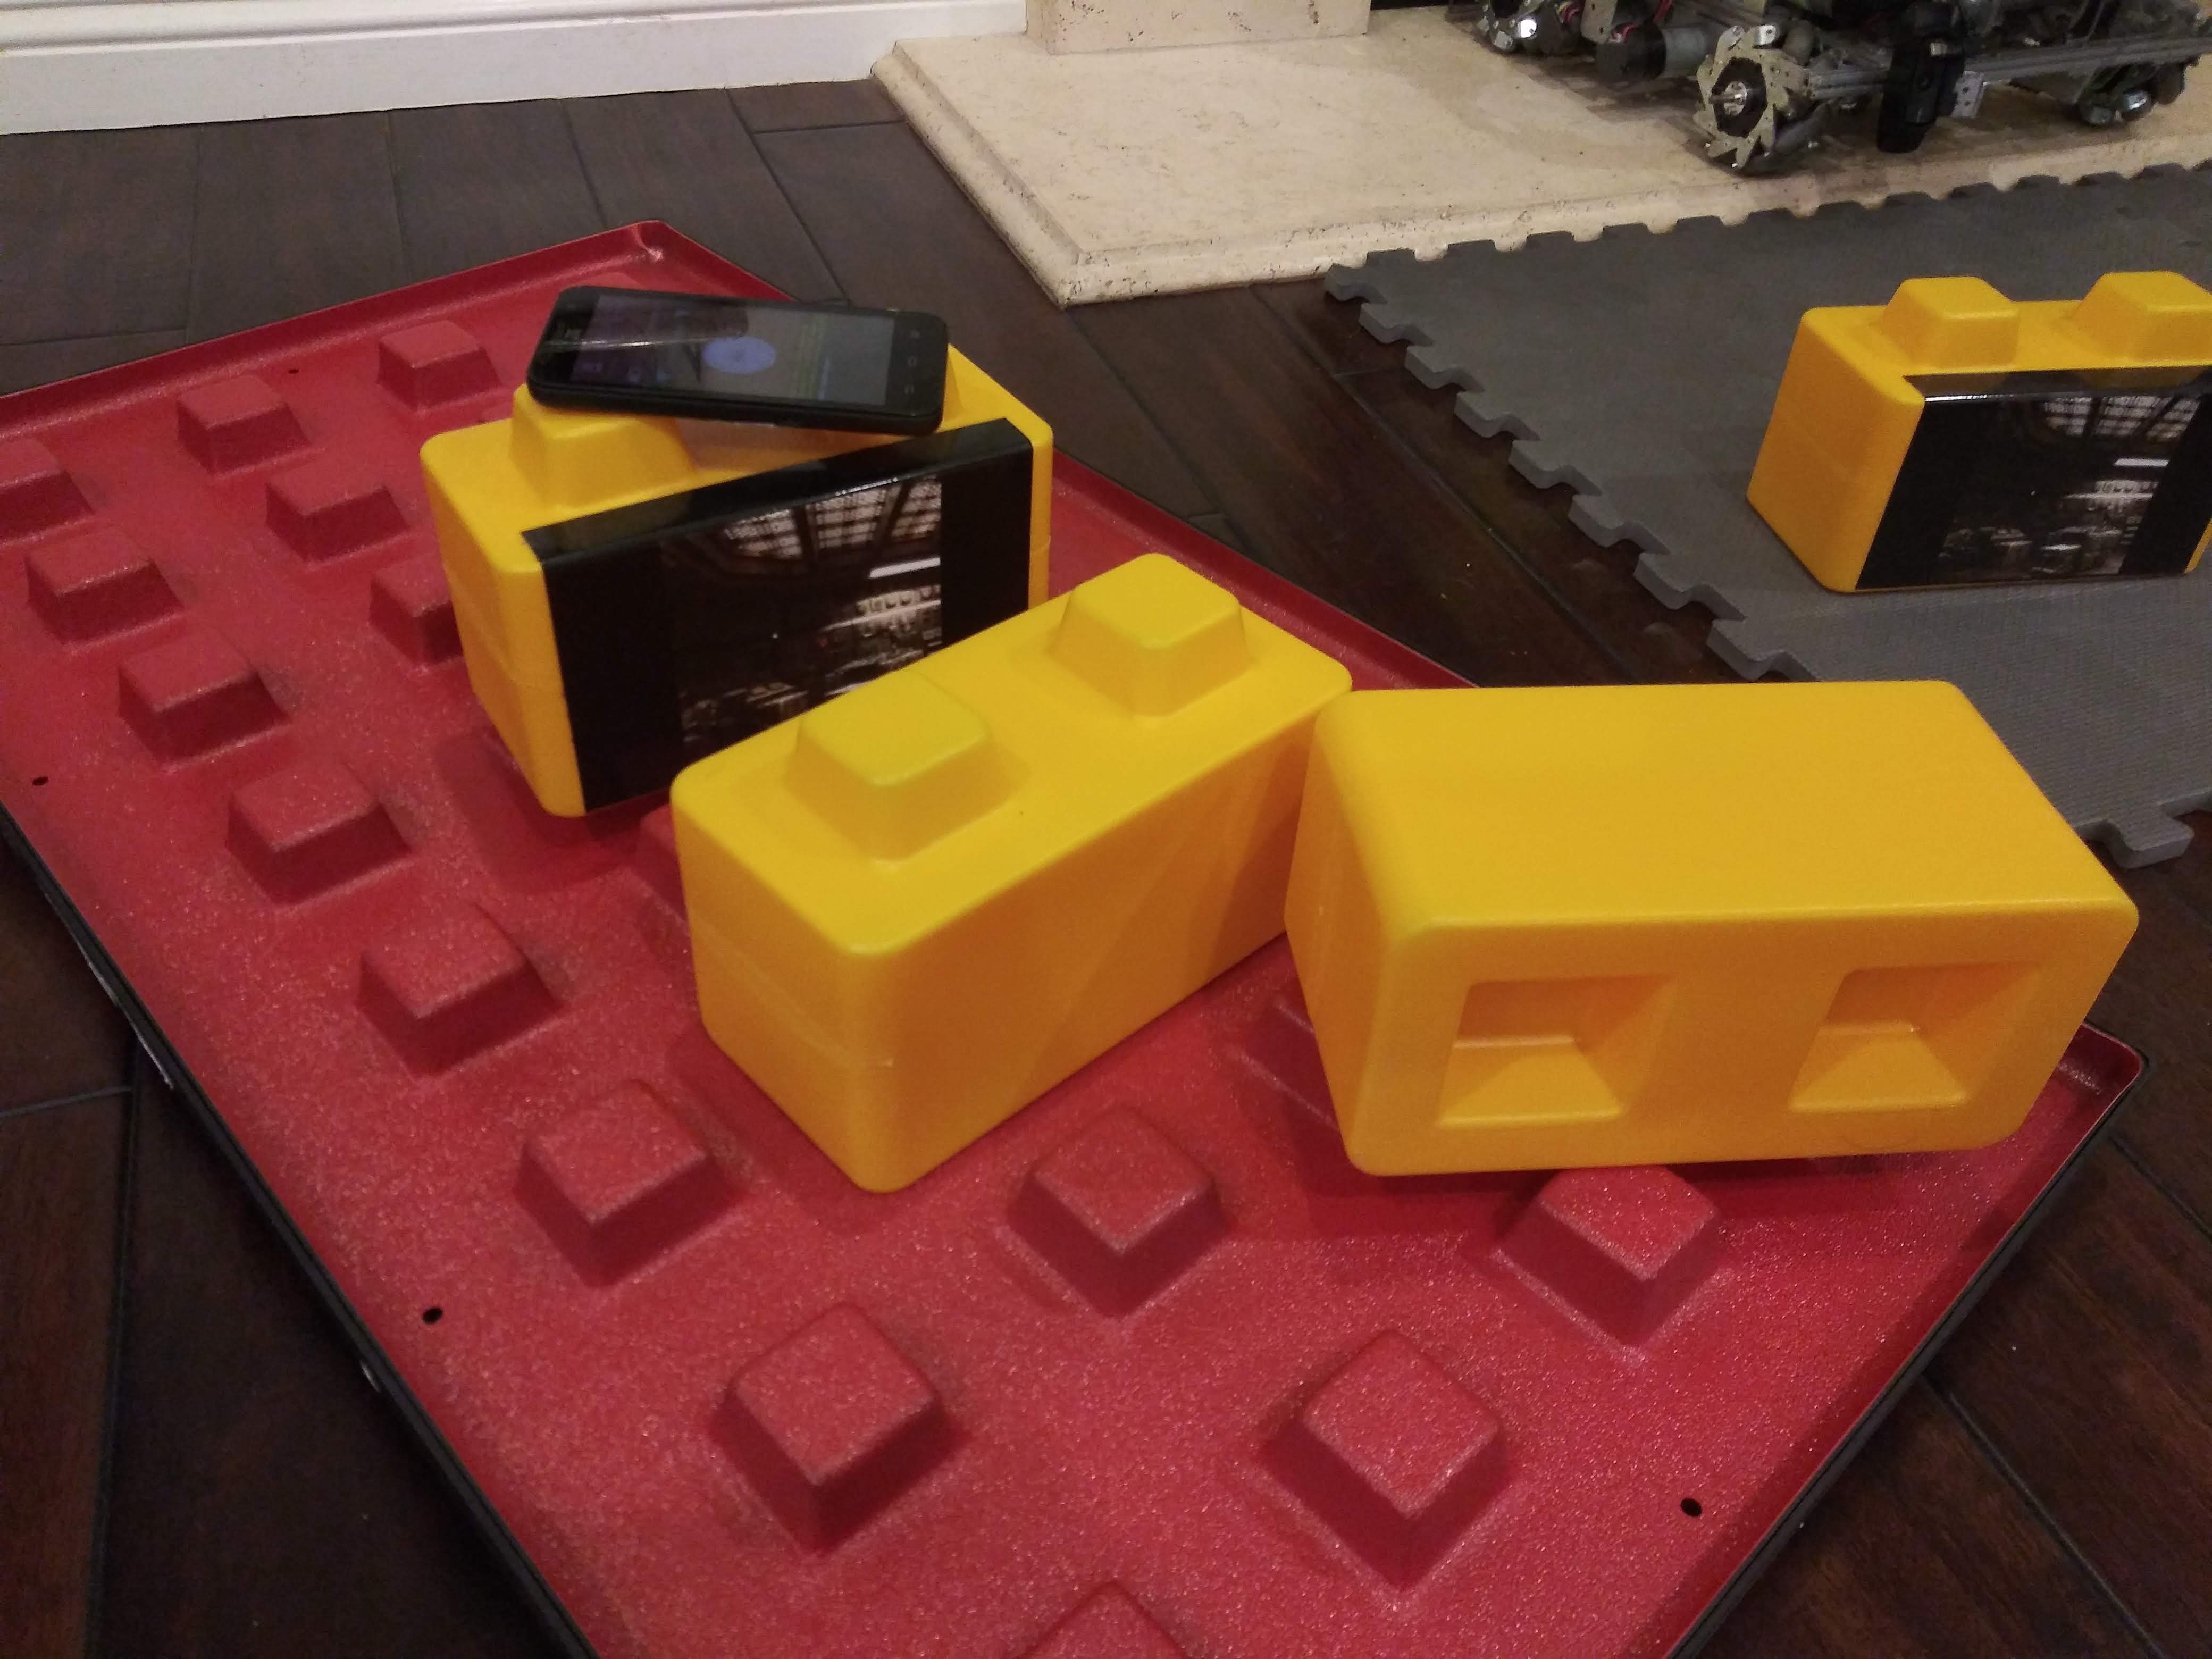skystone: (1804, 319, 2200, 579), (475, 462, 965, 660)
stone: (1343, 697, 2088, 1157), (669, 674, 1291, 1100)
